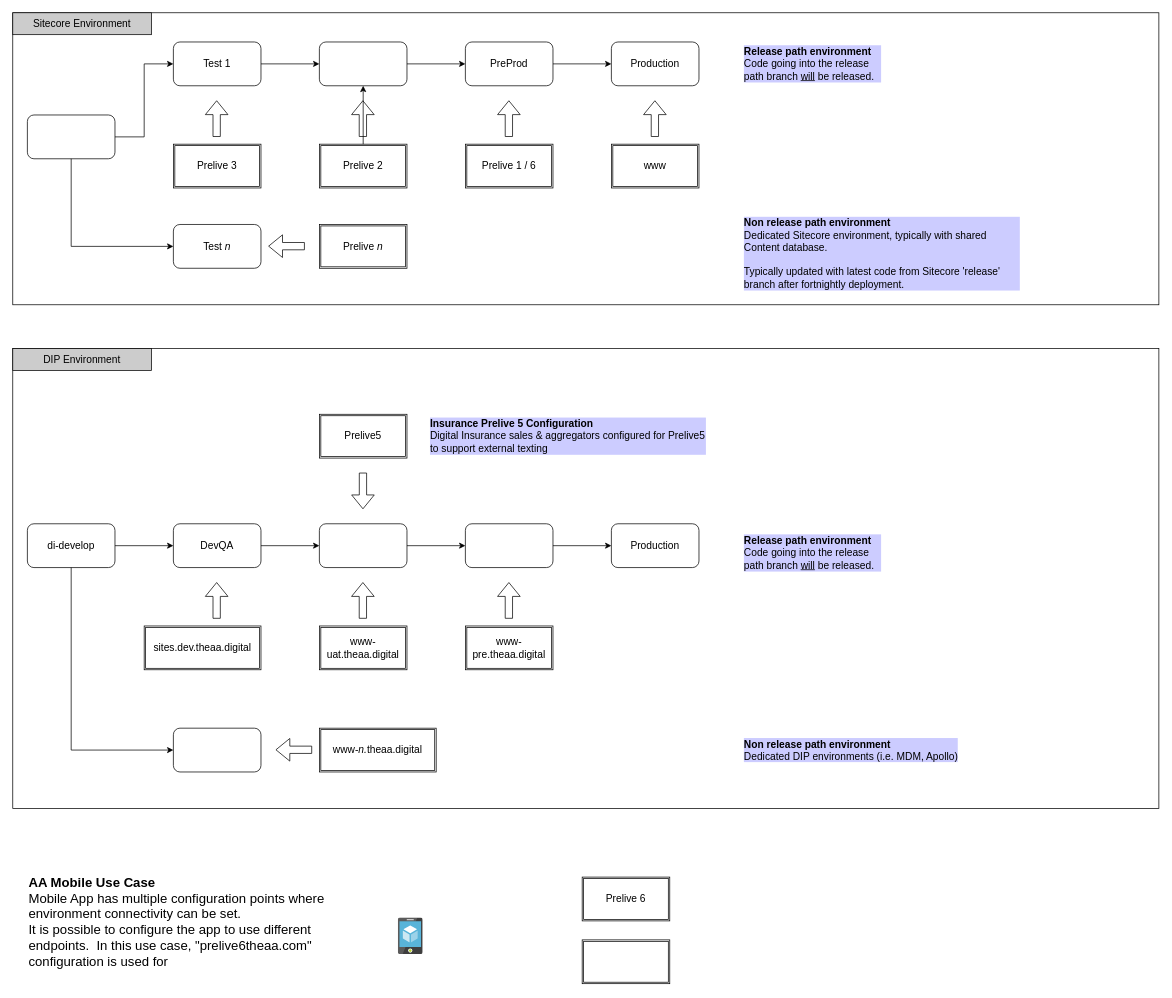
This 1172x998 diagram has some shape labels left out. Here are the shapes that lost their labels. From the top down, the centre of each, then its label:
At pixel 363 63: "Test 2".
At pixel 71 136: "Continuous Integration".
At pixel 363 545: "UAT".
At pixel 509 545: "Staging".
At pixel 217 749: "DIP Test n".
